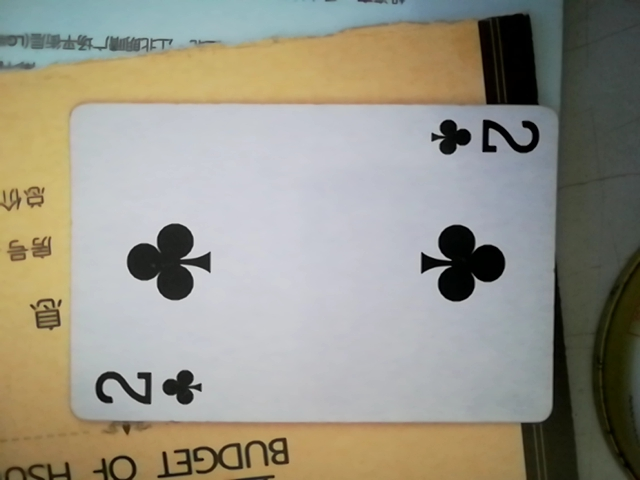mh 2: (66, 103, 560, 426)
